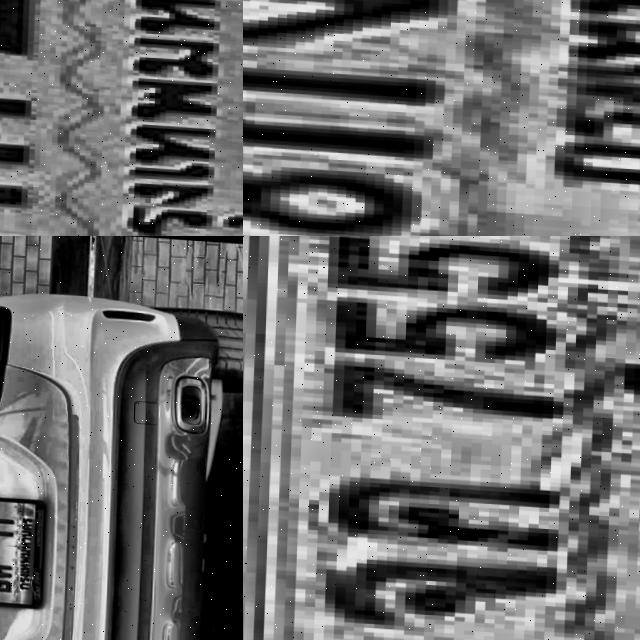license-plate: (243, 236, 640, 640), (243, 0, 640, 236), (0, 0, 243, 236), (0, 491, 49, 605)
